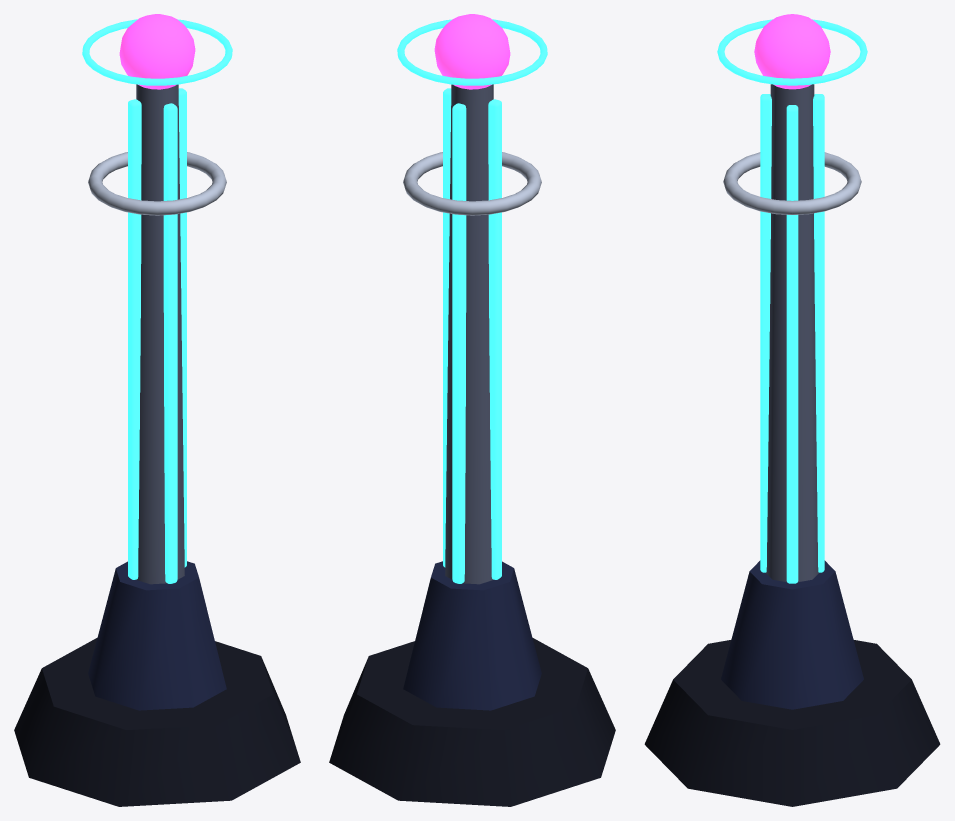
Rendered from beacon.glb.
The picture shows the model from 3 angles, left to right: view 1: azimuth 30°, elevation 25°; view 2: azimuth 150°, elevation 25°; view 3: azimuth 270°, elevation 25°; orthographic projection.
Visible parts, largest first — view 1: root:dark, root:glow, root:plate, root:alloy, lamp:hot, root:hull, lamp:glow; view 2: root:dark, root:glow, root:plate, root:alloy, lamp:hot, root:hull, lamp:glow; view 3: root:dark, root:alloy, root:plate, root:glow, lamp:hot, root:hull, lamp:glow.
Part boxes in pixels (box(x1,y1,x2,y2)): root:dark: box(14, 638, 300, 806); root:glow: box(128, 88, 186, 583); root:plate: box(88, 561, 226, 710); root:alloy: box(136, 84, 184, 584); lamp:hot: box(119, 14, 195, 89); root:hull: box(88, 152, 226, 215); lamp:glow: box(82, 19, 232, 85); root:dark: box(329, 638, 615, 806); root:glow: box(443, 88, 501, 583); root:plate: box(403, 561, 541, 710); root:alloy: box(445, 84, 493, 584); lamp:hot: box(434, 14, 510, 89); root:hull: box(403, 152, 541, 215); lamp:glow: box(397, 19, 547, 85); root:dark: box(644, 640, 940, 806); root:alloy: box(766, 84, 818, 582); root:plate: box(721, 560, 863, 709); root:glow: box(760, 94, 824, 583); lamp:hot: box(754, 14, 830, 89); root:hull: box(723, 152, 861, 214); lamp:glow: box(717, 19, 867, 85).
Size of the model in its own units: 1.24 by 3.36 by 1.24.
